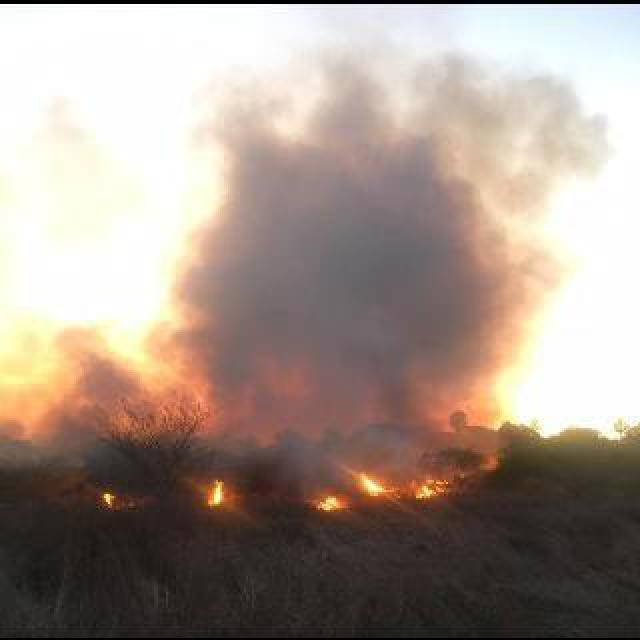Fire: (358, 468, 394, 492), (416, 472, 448, 496), (204, 480, 226, 504), (316, 494, 342, 510), (104, 490, 120, 506)
Smoke: (162, 71, 557, 462), (2, 332, 148, 470)
